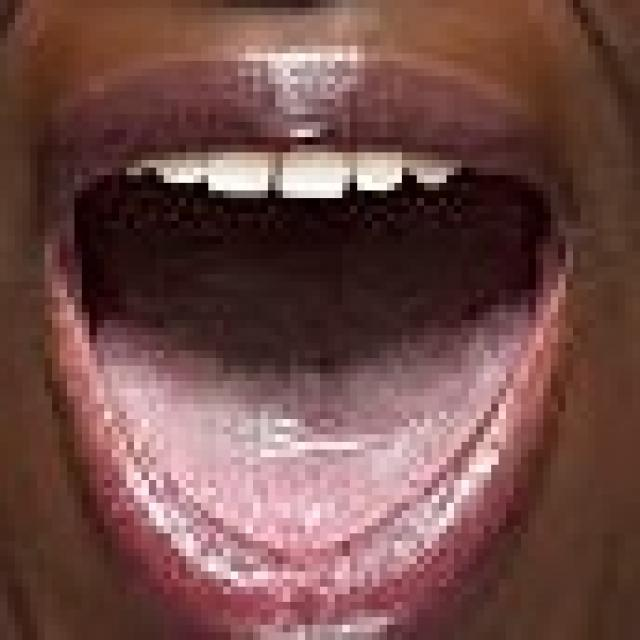open-mouth: (29, 38, 580, 632)
